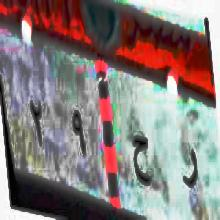2: (23, 92, 48, 158)
7aa: (125, 115, 156, 194)
9: (65, 101, 90, 159)
raa: (175, 132, 203, 206)
